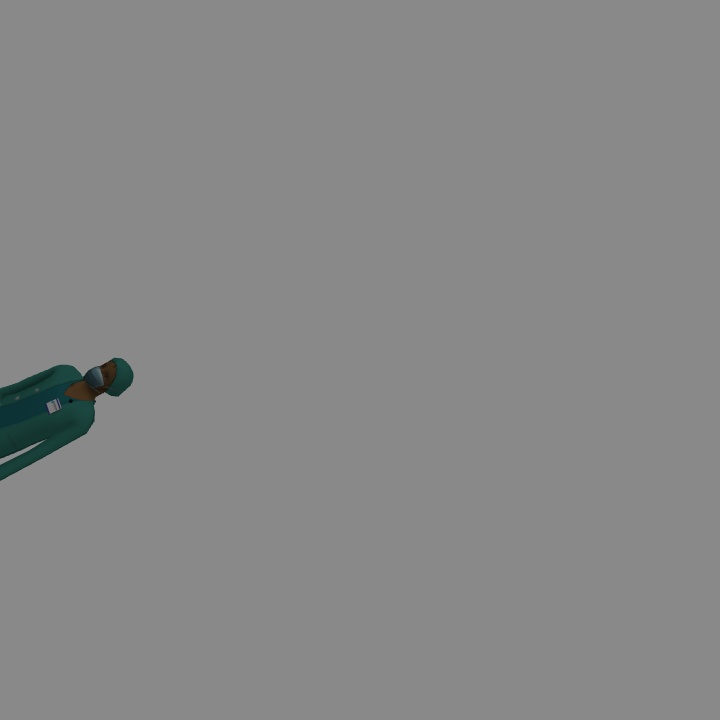victim: (1, 354, 133, 477)
